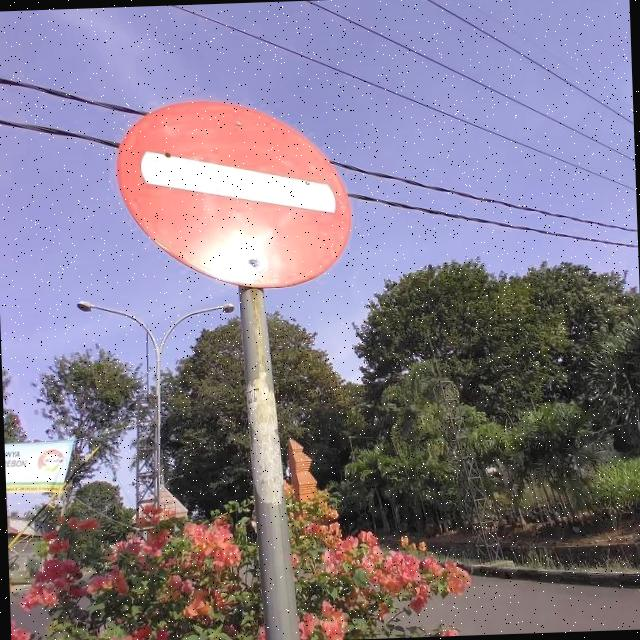Zakaz wjazdu: (114, 97, 348, 294)
